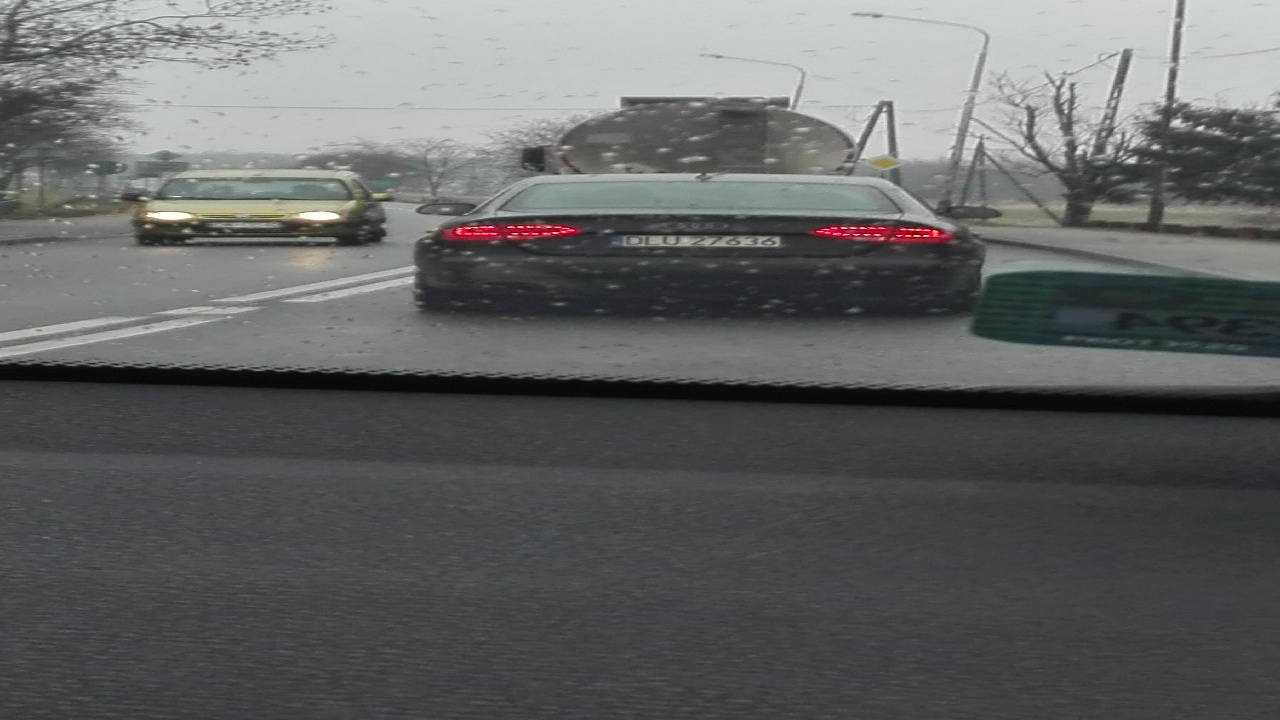D1: (865, 155, 905, 171)
